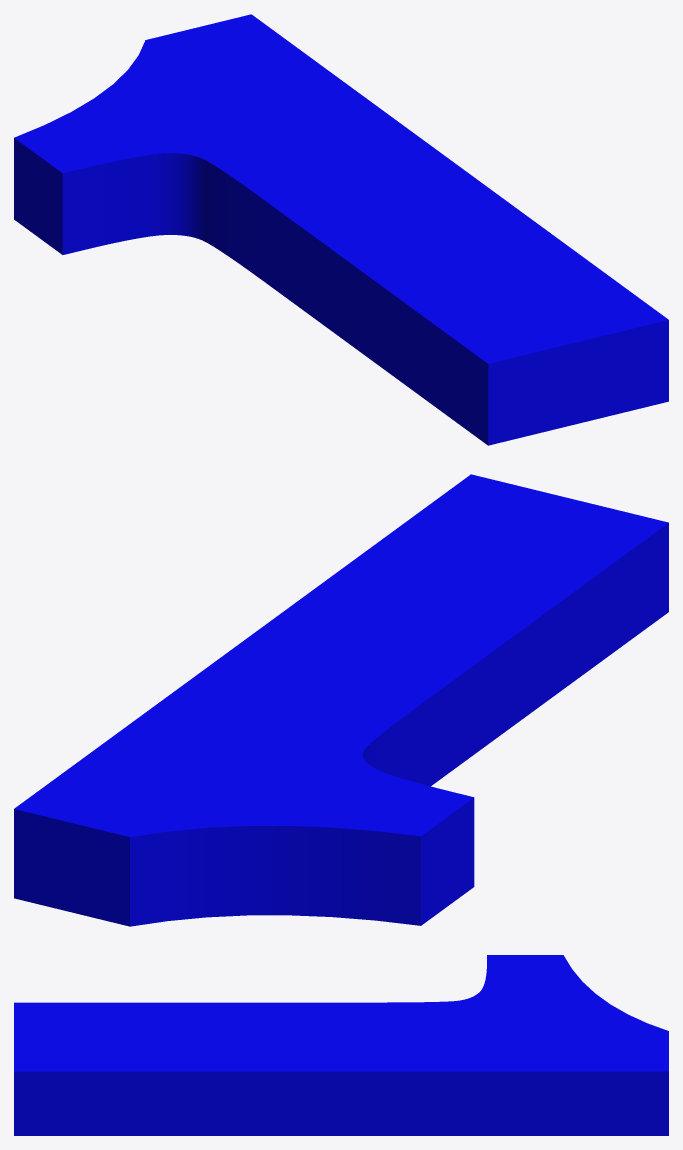
The model's file is One.FBX.
3 views of the same model, one above another, from view 1: azimuth 30°, elevation 25°; view 2: azimuth 150°, elevation 25°; view 3: azimuth 270°, elevation 25° (orthographic). The views are drawn at different scales.
Parts seen in each view (by area): view 1: Text001; view 2: Text001; view 3: Text001.
Part boxes in pixels (x1=…): Text001: x1=14, y1=14, x2=668, y2=445; Text001: x1=14, y1=474, x2=668, y2=926; Text001: x1=14, y1=955, x2=668, y2=1135.
Size of the model in its own units: 27.3 by 7 by 64.8.
